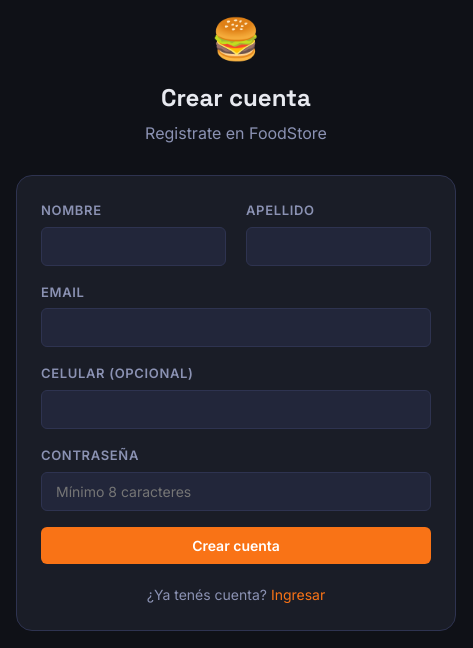
Scenario: RegisterPage › shows loading state on submit
The image size is (473, 648).
Type "Juan" into the field below "Nombre" at [134, 246], box [41,226,226,266]
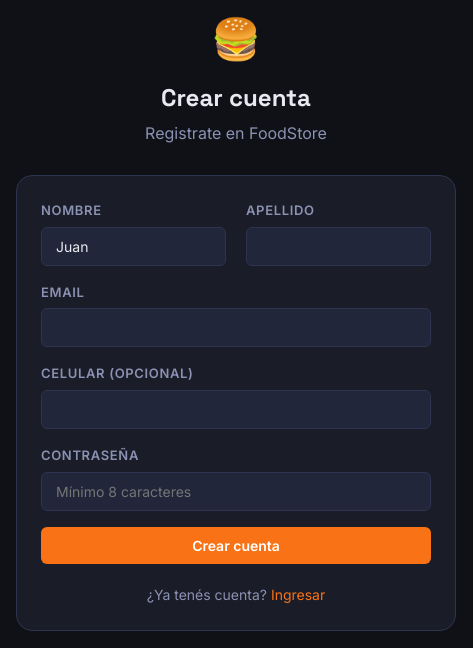
Type "Perez" into the field below "Apellido" at [338, 246], box [246,226,431,266]
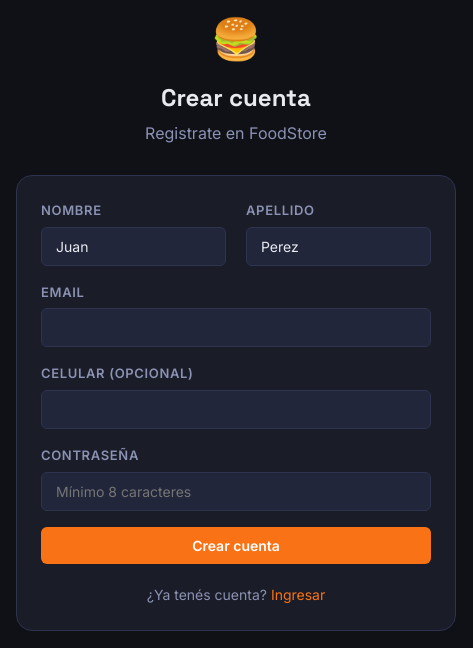
Type "juan@test.com" into the field below "Email" at [236, 328], box [41,308,431,347]
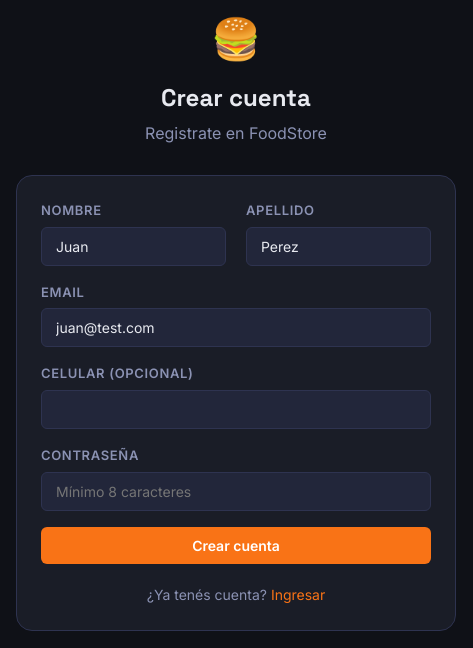
Type "12345678" into the password field with placeholder "Mínimo 8 caracteres" at [236, 491], box [41,472,431,511]
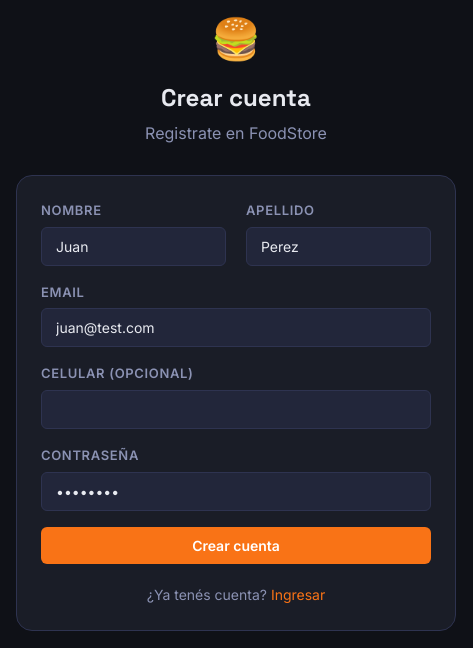
Submit the form "Crear cuenta", box [41,200,431,564]
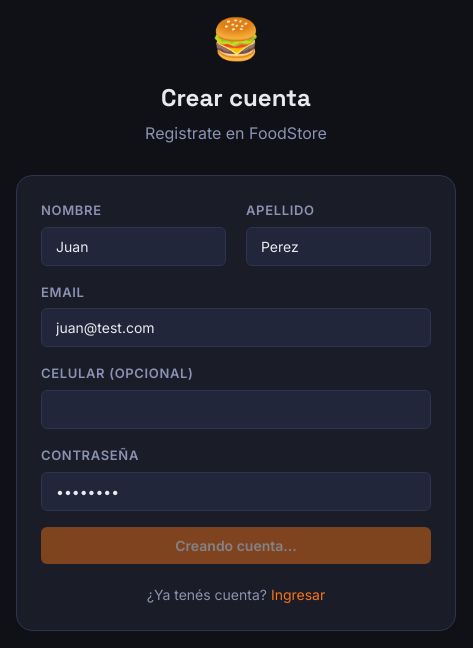
Now the button "Creando cuenta..." is shown, box [41,527,431,564]
